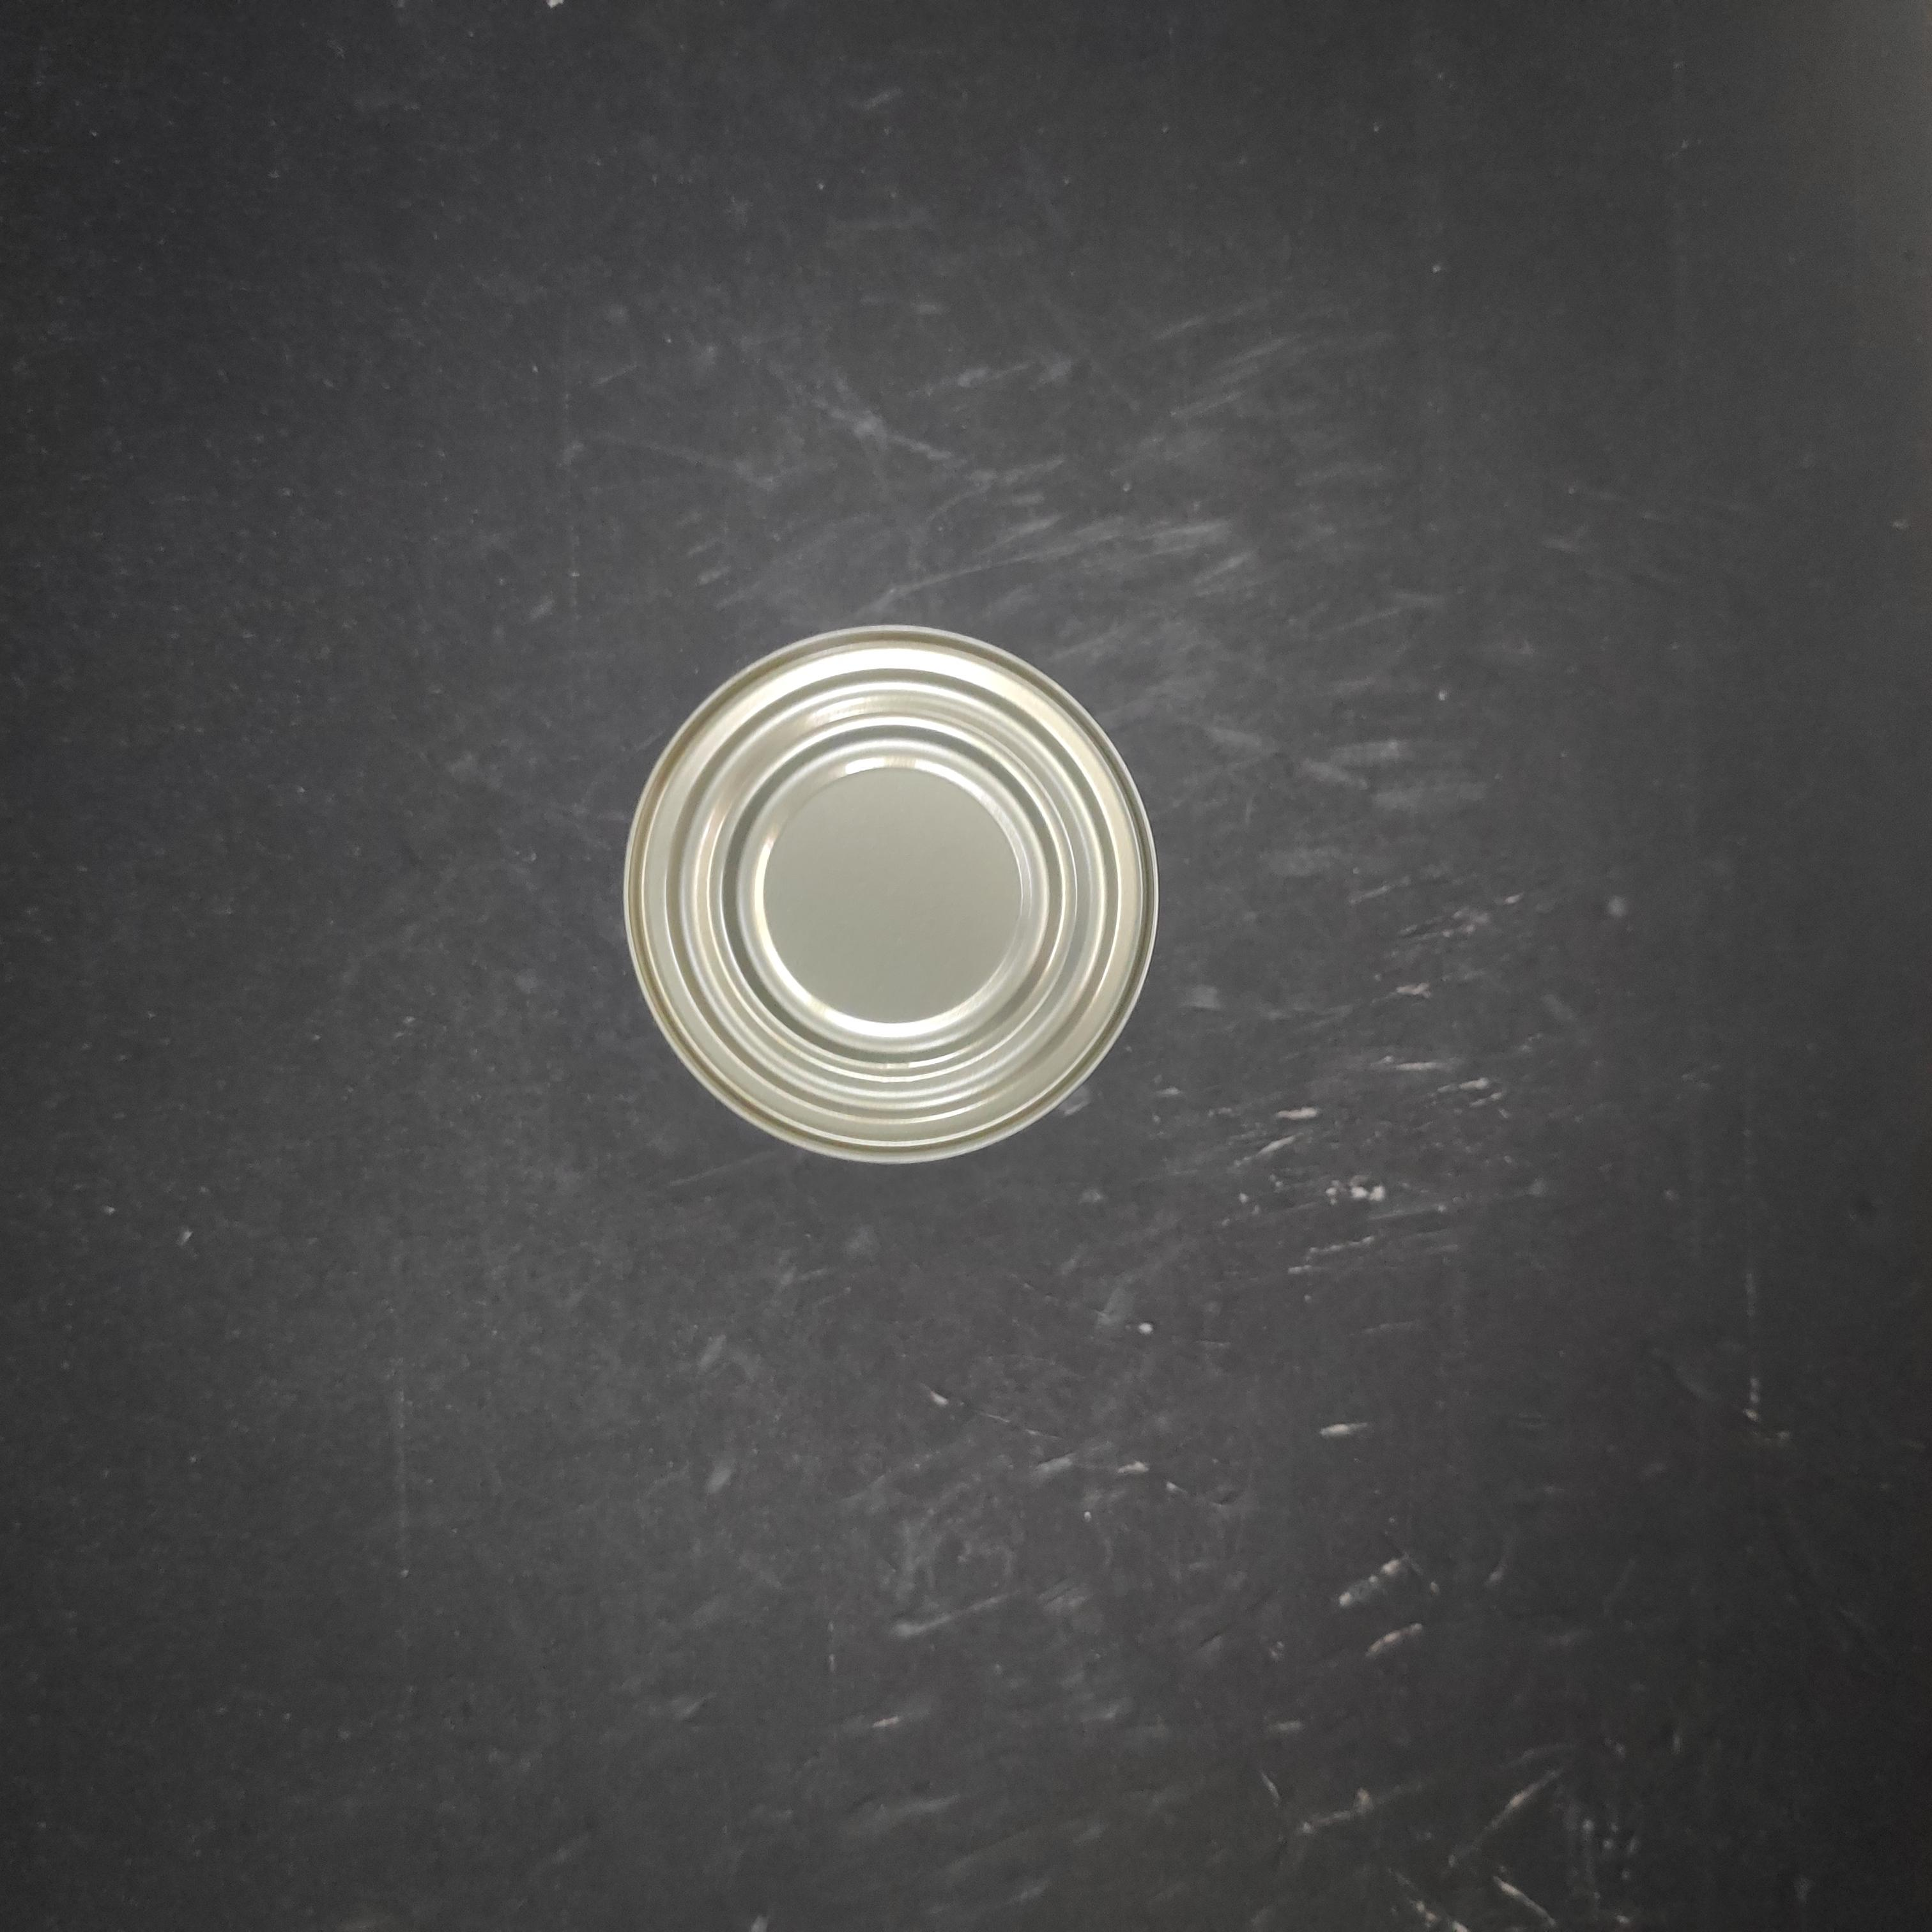No defect: (623, 771, 1166, 1313)
